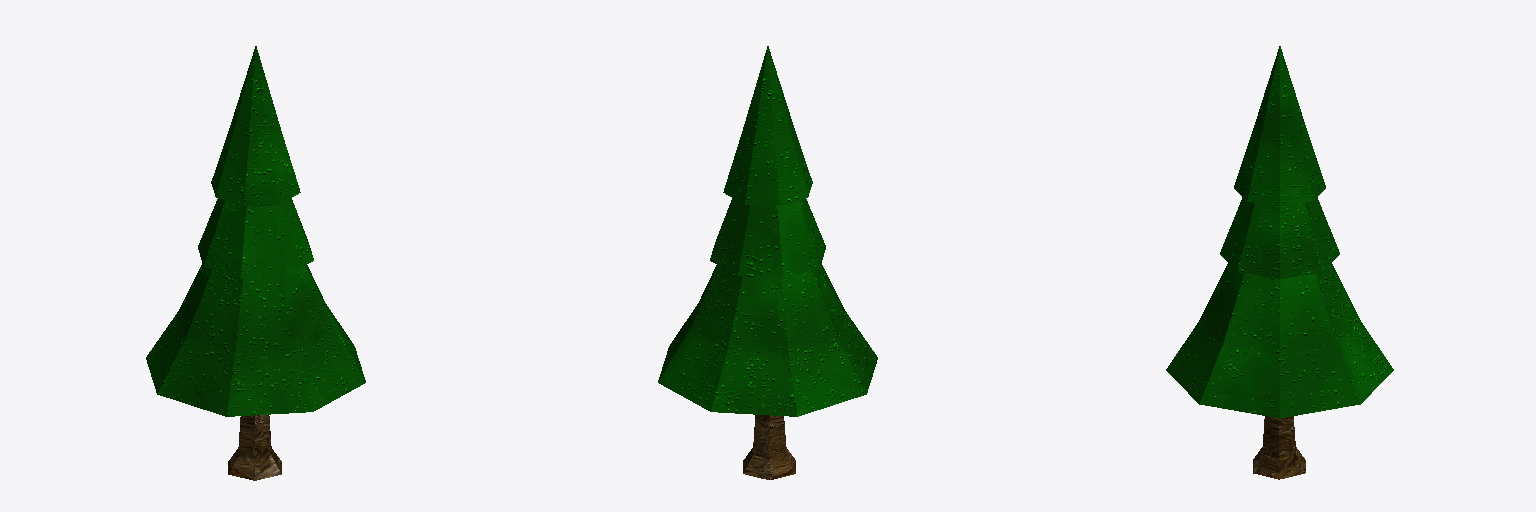
3 views of the same model, side by side, from view 1: azimuth 30°, elevation 25°; view 2: azimuth 150°, elevation 25°; view 3: azimuth 270°, elevation 25° (orthographic).
Visible parts, largest first — view 1: Cone001; view 2: Cone001; view 3: Cone001.
Boxes of the visible parts, box(x1,y1,x2,y2) form: Cone001: box(146, 46, 365, 480); Cone001: box(658, 46, 877, 479); Cone001: box(1166, 46, 1393, 479).
Size of the model in its own units: 134 by 273 by 134.
1 materials, 1 textured.